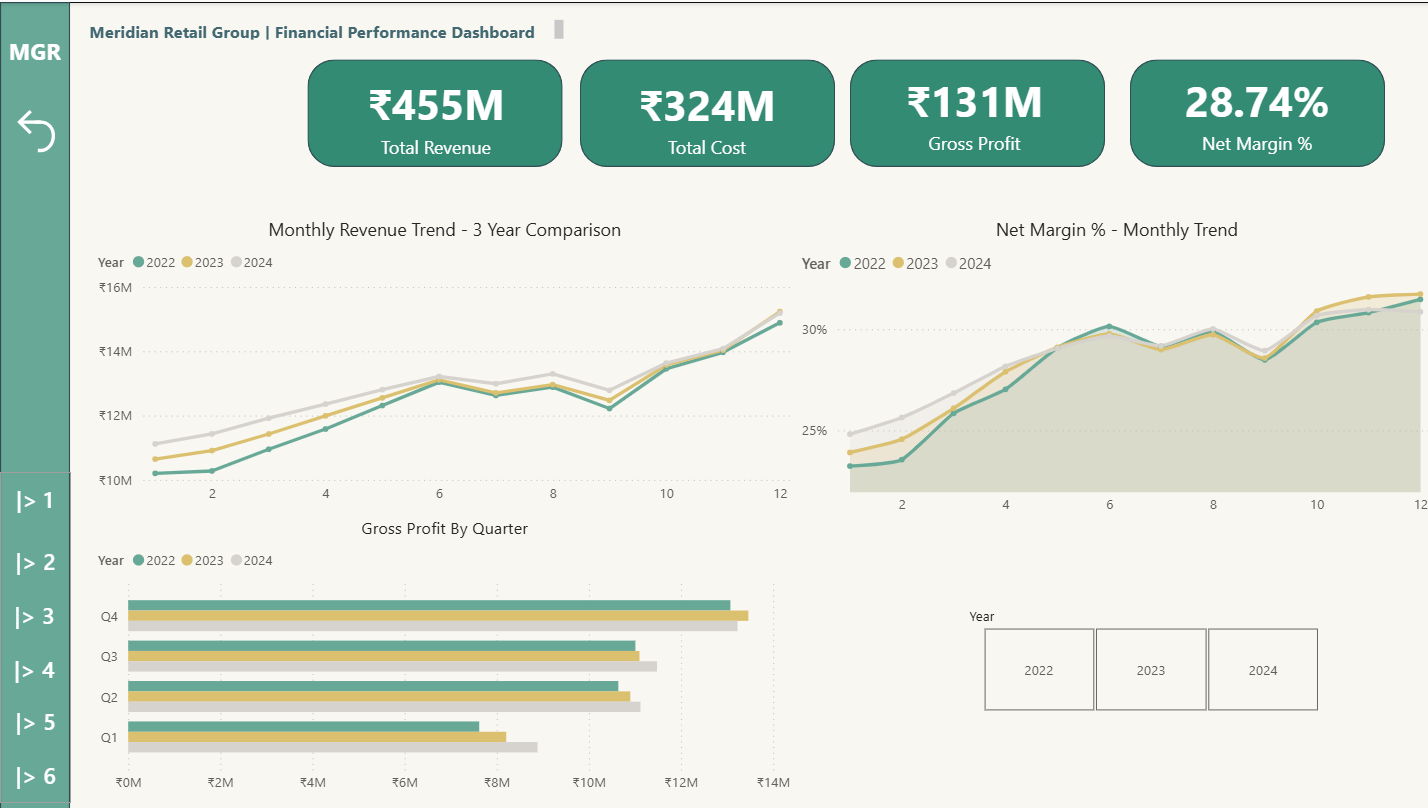

Layout of this report page (visuals, bound fields, positions):
{"tool":"powerbi","page":{"name":"Revenue Overview","canvas":[1280,720],"ordinal":0},"visuals":[{"type":"textbox","title":"Title","box":[74.8,10.9,431.9,27.7],"z":0,"group":"g3"},{"type":"shape","box":[273.9,50.7,227.1,95.7],"z":0,"group":"g2"},{"type":"lineChart","title":"Monthly Revenue Trend - 3 Year Comparison","fields":{"Y":["Measure_Table.Total_Revenue"],"Category":["Revenue Trend.month_num"],"Series":["Revenue Trend.year"]},"box":[81.9,190.8,627.3,265.4],"z":0},{"type":"actionButton","box":[0,418.9,61.6,47.7],"z":0,"group":"g1"},{"type":"actionButton","title":"Logo","box":[0,11.6,62.5,60.9],"z":1000,"group":"g3"},{"type":"shape","box":[516.8,50.7,227.1,95.7],"z":1000,"group":"g2"},{"type":"clusteredBarChart","title":"Gross Profit By Quarter","fields":{"Category":["Revenue Trend.quarter"],"Y":["Measure_Table.Gross_Profit"],"Series":["Revenue Trend.year"]},"box":[81.9,457.3,627.3,255.6],"z":1000},{"type":"actionButton","box":[1.5,474.3,61.6,47.7],"z":1000,"group":"g1"},{"type":"shape","box":[756.8,50.7,227.1,95.7],"z":2000,"group":"g2"},{"type":"areaChart","title":"Net Margin % - Monthly Trend ","fields":{"Y":["Measure_Table.Net_Margin %"],"Category":["Revenue Trend.month_num"],"Series":["Revenue Trend.year"]},"box":[709.2,190.8,571.1,275.1],"z":2000},{"type":"actionButton","box":[0,522.1,61.6,47.7],"z":2000,"group":"g1"},{"type":"shape","title":"Border Shape","box":[0,0,62.4,720.2],"z":3000},{"type":"shape","box":[1006.8,50.7,227.1,95.7],"z":3000,"group":"g2"},{"type":"actionButton","box":[0,569.8,61.6,47.7],"z":3000,"group":"g1"},{"type":"card","title":"Total_Revenue","fields":{"Values":["Measure_Table.Total_Revenue"]},"box":[292.5,53.6,191.4,94.3],"z":4000,"group":"g2"},{"type":"actionButton","title":"Reset","box":[8.2,90.5,74,49.3],"z":4000},{"type":"actionButton","box":[1.5,665.3,61.6,47.7],"z":4000,"group":"g1"},{"type":"card","title":"Gross_Profit","fields":{"Values":["Measure_Table.Gross_Profit"]},"box":[772.5,51.2,191.2,94.9],"z":5000,"group":"g2"},{"type":"group","id":"g1","title":"Page Navigation","box":[0,418.9,63.1,294.1],"z":5000},{"type":"actionButton","box":[1.5,617.6,61.6,47.7],"z":5000,"group":"g1"},{"type":"group","id":"g2","title":"KPI Cards","box":[273.9,50.7,960,98],"z":6000},{"type":"card","title":"Net_Margin","fields":{"Values":["Measure_Table.Net_Margin %"]},"box":[1024.5,51.2,191.2,94.9],"z":6000,"group":"g2"},{"type":"card","title":"Total Cost","fields":{"Values":["Measure_Table.Total Cost"]},"box":[533.8,53.8,191.2,94.9],"z":7000,"group":"g2"},{"type":"slicer","title":"Slicer - Yr","fields":{"Values":["Revenue Trend.Year"]},"box":[850.5,533.2,347.5,105],"z":7000},{"type":"group","id":"g3","title":"Logo & Title","box":[0,10.9,506.7,61.5],"z":8000}]}

Visuals, with their boxes on the page's 1280x720 design canvas (x1, y1, x2, y2). These are canvas units, not pixel positions in the 1428x808 screenshot, which may show the page scaled, cropped or inside an application window:
"Title" textbox: bbox=(75, 11, 507, 39)
shape: bbox=(274, 51, 501, 146)
"Monthly Revenue Trend - 3 Year Comparison" lineChart: bbox=(82, 191, 709, 456)
actionButton: bbox=(0, 419, 62, 467)
"Logo" actionButton: bbox=(0, 12, 62, 72)
shape: bbox=(517, 51, 744, 146)
"Gross Profit By Quarter" clusteredBarChart: bbox=(82, 457, 709, 713)
actionButton: bbox=(2, 474, 63, 522)
shape: bbox=(757, 51, 984, 146)
"Net Margin % - Monthly Trend " areaChart: bbox=(709, 191, 1280, 466)
actionButton: bbox=(0, 522, 62, 570)
"Border Shape" shape: bbox=(0, 0, 62, 720)
shape: bbox=(1007, 51, 1234, 146)
actionButton: bbox=(0, 570, 62, 618)
"Total_Revenue" card: bbox=(292, 54, 484, 148)
"Reset" actionButton: bbox=(8, 90, 82, 140)
actionButton: bbox=(2, 665, 63, 713)
"Gross_Profit" card: bbox=(772, 51, 964, 146)
"Page Navigation" group: bbox=(0, 419, 63, 713)
actionButton: bbox=(2, 618, 63, 665)
"KPI Cards" group: bbox=(274, 51, 1234, 149)
"Net_Margin" card: bbox=(1024, 51, 1216, 146)
"Total Cost" card: bbox=(534, 54, 725, 149)
"Slicer - Yr" slicer: bbox=(850, 533, 1198, 638)
"Logo & Title" group: bbox=(0, 11, 507, 72)
